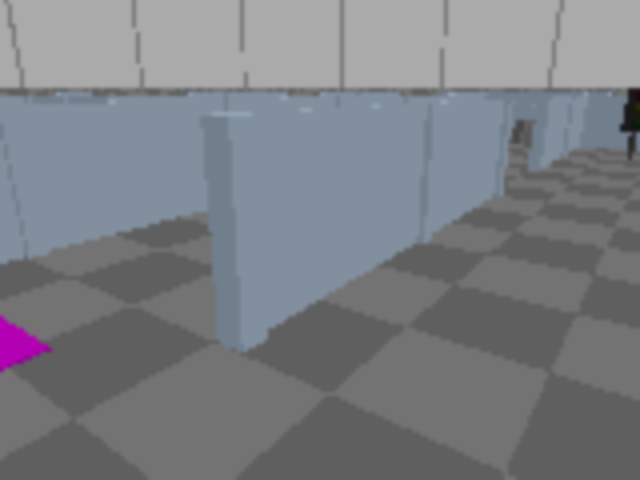goal_zone: (0, 303, 50, 457)
traffic_light: (615, 85, 638, 160)
